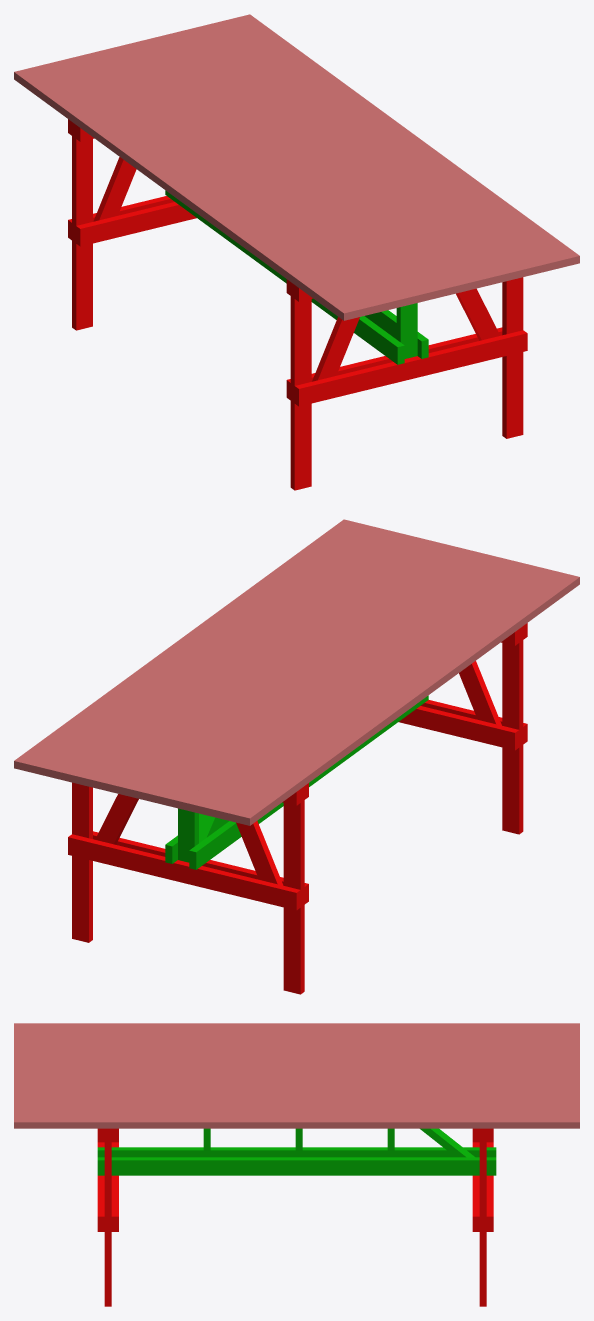
Rendered from result.glb.
3 views of the same model, one above another, from view 1: azimuth 30°, elevation 25°; view 2: azimuth 150°, elevation 25°; view 3: azimuth 270°, elevation 25° (orthographic). The views are drawn at different scales.
Parts seen in each view (by area): view 1: 78171905-4220-40b5-8e47-6e54215aa2ee__Box, ed7f871d-b5c6-4bfa-87fb-2bb3e61b2168__undefined, 8f7f9b39-5e97-461e-9184-59daa915703b__undefined, 11e3ac9f-cef0-48dd-90d6-30401f5bd6be__undefined, ee087e53-a026-43fd-b8f0-49a3f904e380__undefined, 8340da5c-cced-4617-b44c-1da573d3d967__undefined, 0bba03cf-e348-424b-9711-5044b62a1dfd__undefined, c8867d39-6915-42bf-8a94-3f41c26ec91d__undefined, ac99f8aa-d4e0-48da-9cf3-557cbf5a4adf__undefined, 0a8471b5-6722-474c-a410-86f8091f46d2__undefined, e823811f-54e6-4899-9145-79196a472759__undefined, 9efcd415-69c1-44dd-8dd0-c10548108d53__undefined (+14 smaller); view 2: 78171905-4220-40b5-8e47-6e54215aa2ee__Box, 8f7f9b39-5e97-461e-9184-59daa915703b__undefined, 8340da5c-cced-4617-b44c-1da573d3d967__undefined, ed7f871d-b5c6-4bfa-87fb-2bb3e61b2168__undefined, 0bba03cf-e348-424b-9711-5044b62a1dfd__undefined, 11e3ac9f-cef0-48dd-90d6-30401f5bd6be__undefined, ee087e53-a026-43fd-b8f0-49a3f904e380__undefined, c8867d39-6915-42bf-8a94-3f41c26ec91d__undefined, d7179321-ab8a-4499-a776-4af15a14e70e__undefined, ac99f8aa-d4e0-48da-9cf3-557cbf5a4adf__undefined, 0a8471b5-6722-474c-a410-86f8091f46d2__undefined, 9efcd415-69c1-44dd-8dd0-c10548108d53__undefined (+13 smaller); view 3: d7179321-ab8a-4499-a776-4af15a14e70e__undefined, b3fb12aa-fb38-44c4-9eb8-45acdfaa488d__strutH, 78171905-4220-40b5-8e47-6e54215aa2ee__Box, 8f7f9b39-5e97-461e-9184-59daa915703b__undefined, ee087e53-a026-43fd-b8f0-49a3f904e380__undefined, 8340da5c-cced-4617-b44c-1da573d3d967__undefined, ed7f871d-b5c6-4bfa-87fb-2bb3e61b2168__undefined, 9efcd415-69c1-44dd-8dd0-c10548108d53__undefined, ac99f8aa-d4e0-48da-9cf3-557cbf5a4adf__undefined, b189dd94-40e2-4ce3-b51e-0ca4ea9ed059__undefined, 0a8471b5-6722-474c-a410-86f8091f46d2__undefined, 0bba03cf-e348-424b-9711-5044b62a1dfd__undefined (+11 smaller).
Part boxes in pixels (x1,y1,x2,y2): 78171905-4220-40b5-8e47-6e54215aa2ee__Box: (14,68,360,320); ed7f871d-b5c6-4bfa-87fb-2bb3e61b2168__undefined: (81,51,428,304); 8f7f9b39-5e97-461e-9184-59daa915703b__undefined: (31,63,377,316); 11e3ac9f-cef0-48dd-90d6-30401f5bd6be__undefined: (200,22,546,275); ee087e53-a026-43fd-b8f0-49a3f904e380__undefined: (48,59,394,312); 8340da5c-cced-4617-b44c-1da573d3d967__undefined: (65,55,411,308); 0bba03cf-e348-424b-9711-5044b62a1dfd__undefined: (166,31,512,283); c8867d39-6915-42bf-8a94-3f41c26ec91d__undefined: (183,26,529,279); ac99f8aa-d4e0-48da-9cf3-557cbf5a4adf__undefined: (115,43,461,295); 0a8471b5-6722-474c-a410-86f8091f46d2__undefined: (149,35,495,287); e823811f-54e6-4899-9145-79196a472759__undefined: (216,18,562,271); 9efcd415-69c1-44dd-8dd0-c10548108d53__undefined: (98,47,444,300); 78171905-4220-40b5-8e47-6e54215aa2ee__Box: (233,573,579,825); 8f7f9b39-5e97-461e-9184-59daa915703b__undefined: (216,568,562,821); 8340da5c-cced-4617-b44c-1da573d3d967__undefined: (182,560,528,813); ed7f871d-b5c6-4bfa-87fb-2bb3e61b2168__undefined: (165,556,511,809); 0bba03cf-e348-424b-9711-5044b62a1dfd__undefined: (81,536,427,788); 11e3ac9f-cef0-48dd-90d6-30401f5bd6be__undefined: (47,527,393,780); ee087e53-a026-43fd-b8f0-49a3f904e380__undefined: (199,564,545,817); c8867d39-6915-42bf-8a94-3f41c26ec91d__undefined: (64,531,410,784); d7179321-ab8a-4499-a776-4af15a14e70e__undefined: (14,519,360,772); ac99f8aa-d4e0-48da-9cf3-557cbf5a4adf__undefined: (132,548,478,801); 0a8471b5-6722-474c-a410-86f8091f46d2__undefined: (98,540,444,792); 9efcd415-69c1-44dd-8dd0-c10548108d53__undefined: (149,552,495,805); d7179321-ab8a-4499-a776-4af15a14e70e__undefined: (14,1115,579,1128); b3fb12aa-fb38-44c4-9eb8-45acdfaa488d__strutH: (97,1157,496,1175); 78171905-4220-40b5-8e47-6e54215aa2ee__Box: (14,1023,579,1030); 8f7f9b39-5e97-461e-9184-59daa915703b__undefined: (14,1030,579,1037); ee087e53-a026-43fd-b8f0-49a3f904e380__undefined: (14,1037,579,1044); 8340da5c-cced-4617-b44c-1da573d3d967__undefined: (14,1044,579,1051); ed7f871d-b5c6-4bfa-87fb-2bb3e61b2168__undefined: (14,1051,579,1058); 9efcd415-69c1-44dd-8dd0-c10548108d53__undefined: (14,1058,579,1065); ac99f8aa-d4e0-48da-9cf3-557cbf5a4adf__undefined: (14,1065,579,1072); b189dd94-40e2-4ce3-b51e-0ca4ea9ed059__undefined: (14,1072,579,1079); 0a8471b5-6722-474c-a410-86f8091f46d2__undefined: (14,1080,579,1086); 0bba03cf-e348-424b-9711-5044b62a1dfd__undefined: (14,1087,579,1093).
Size of the model in its own units: 826 by 725 by 2000.
